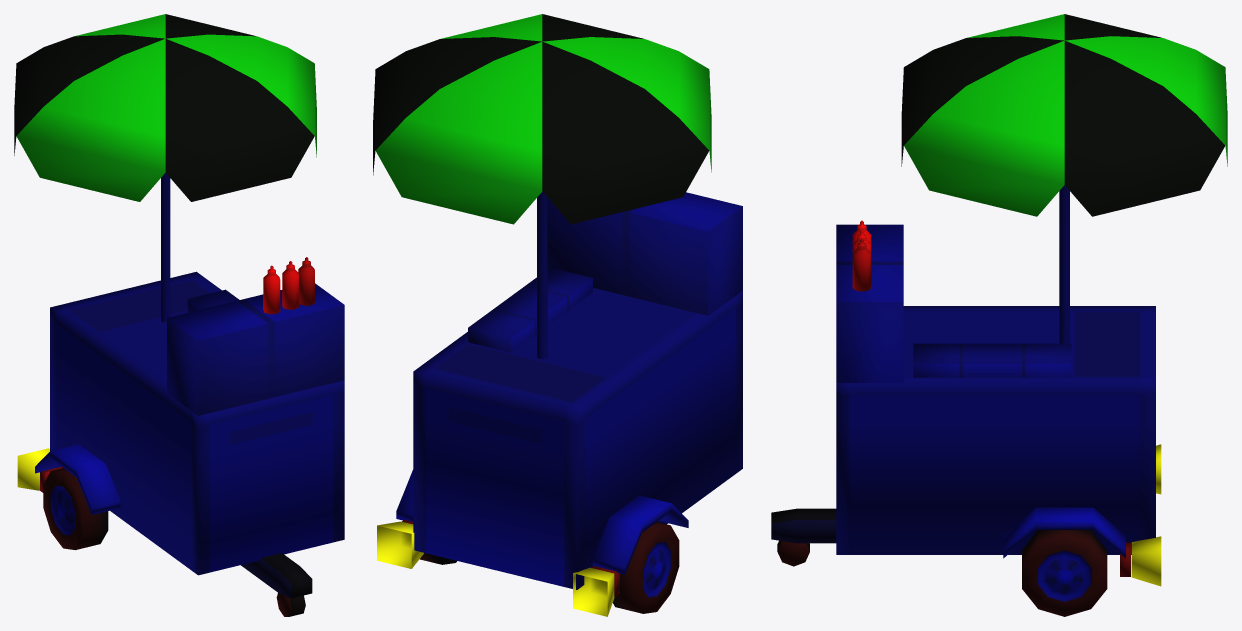
The model's file is carrinho_de_cachorro_quente.fbx.
3 renders of one model, left to right at view 1: azimuth 30°, elevation 25°; view 2: azimuth 150°, elevation 25°; view 3: azimuth 270°, elevation 25°, orthographic. The views are drawn at different scales.
Visible parts, largest first — view 1: refl.005, DblSided.003, base.028, light.001; view 2: refl.005, DblSided.003, base.028, light.001; view 3: refl.005, DblSided.003, base.028, light.001.
Boxes of the visible parts, box(x1,y1,x2,y2) form: refl.005: box(35, 173, 344, 598); DblSided.003: box(14, 14, 316, 201); base.028: box(40, 257, 314, 616); light.001: box(17, 448, 49, 490); refl.005: box(396, 191, 742, 597); DblSided.003: box(373, 14, 711, 224); base.028: box(402, 519, 679, 613); light.001: box(377, 521, 614, 616); refl.005: box(771, 185, 1155, 601); DblSided.003: box(901, 14, 1227, 216); base.028: box(777, 220, 1130, 616); light.001: box(1131, 444, 1161, 586).
Size of the model in its own units: 189 by 293 by 232.
